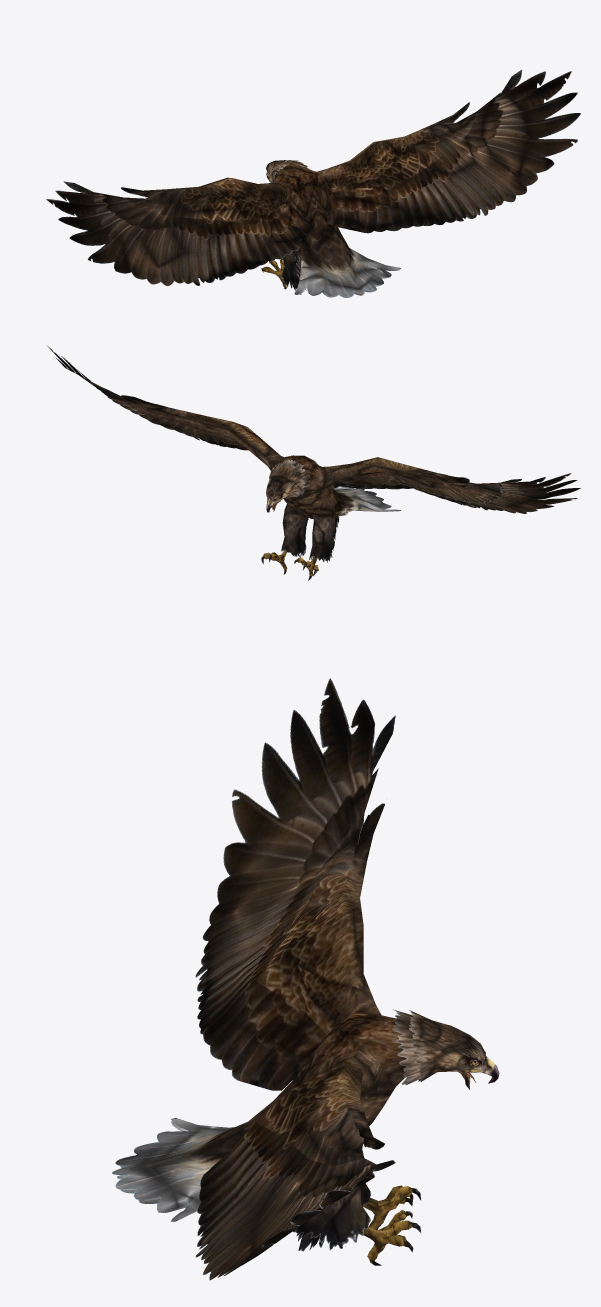
File: ying.obj
3 renders of one model, top to bottom at view 1: azimuth 30°, elevation 25°; view 2: azimuth 150°, elevation 25°; view 3: azimuth 270°, elevation 25°, orthographic. The views are drawn at different scales.
Visible parts, largest first — view 1: _________20___; view 2: _________20___; view 3: _________20___.
Part boxes in pixels (box(x1,y1,x2,y2)): _________20___: box(46, 69, 580, 297); _________20___: box(46, 345, 580, 580); _________20___: box(112, 678, 499, 1280).
Size of the model in its own units: 617 by 212 by 197.
1 material, 1 textured.
